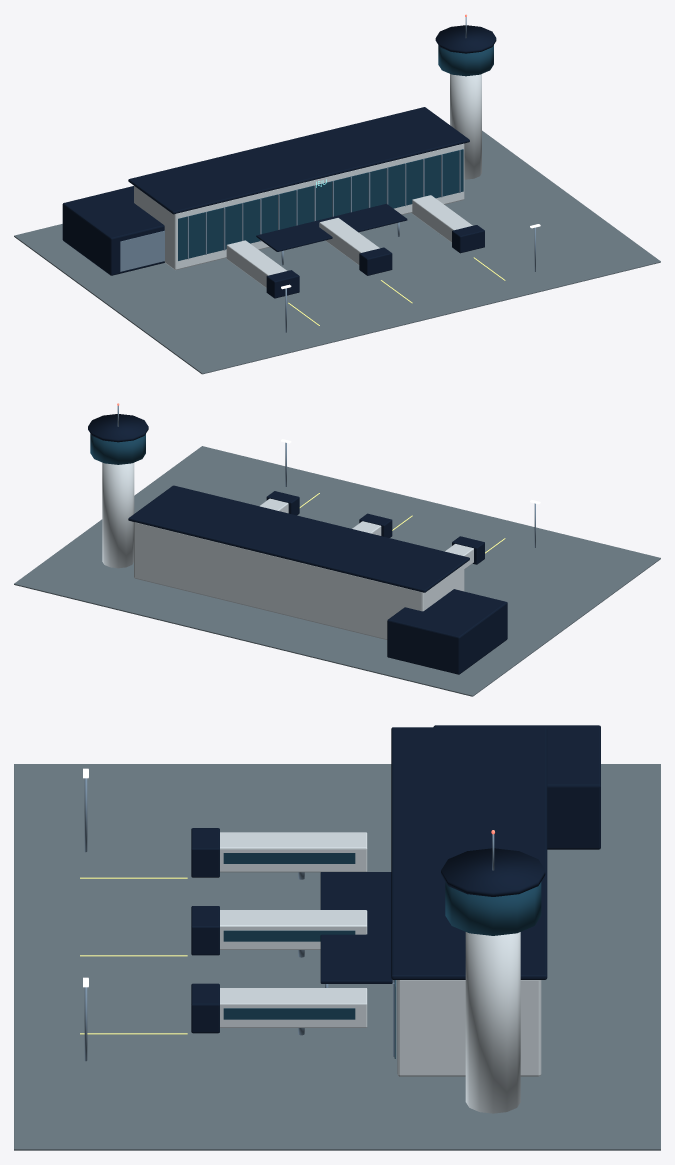
Rendered from airport_jeju.glb.
3 renders of one model, top to bottom at view 1: azimuth 30°, elevation 25°; view 2: azimuth 150°, elevation 25°; view 3: azimuth 270°, elevation 25°, orthographic. The views are drawn at different scales.
Parts seen in each view (by area): view 1: Apron, TerminalRoof, TerminalGlazing, ServiceHangar, TerminalCore, TowerShaft, EntranceCanopy, HangarDoor, JetBridge0, TowerCap, JetBridge2, JetBridge1 (+4 smaller); view 2: Apron, TerminalCore, TerminalRoof, ServiceHangar, TowerShaft, TowerCap, TowerCabin; view 3: Apron, TerminalRoof, TowerShaft, TerminalCore, ServiceHangar, EntranceCanopy, JetBridge2, JetBridge0, JetBridge1, TowerCap, TowerCabin, JetBridgeGlass2 (+5 smaller).
Boxes of the visible parts, <box> form: Apron: <box>14,130,660,374</box>; TerminalRoof: <box>128,107,469,214</box>; TerminalGlazing: <box>178,149,463,260</box>; ServiceHangar: <box>62,186,164,275</box>; TerminalCore: <box>134,143,464,269</box>; TowerShaft: <box>450,74,481,179</box>; EntranceCanopy: <box>256,203,407,251</box>; HangarDoor: <box>120,230,164,271</box>; JetBridge0: <box>226,240,286,287</box>; TowerCap: <box>435,25,496,53</box>; JetBridge2: <box>412,195,472,242</box>; JetBridge1: <box>319,218,379,264</box>; Apron: <box>14,446,660,696</box>; TerminalCore: <box>134,522,464,639</box>; TerminalRoof: <box>128,485,469,592</box>; ServiceHangar: <box>387,589,507,674</box>; TowerShaft: <box>102,462,134,568</box>; TowerCap: <box>88,414,148,442</box>; TowerCabin: <box>90,434,145,464</box>; Apron: <box>14,764,660,1150</box>; TerminalRoof: <box>391,727,547,979</box>; TowerShaft: <box>465,932,520,1113</box>; TerminalCore: <box>397,980,541,1076</box>; ServiceHangar: <box>433,725,600,849</box>; EntranceCanopy: <box>320,872,392,983</box>; JetBridge2: <box>220,988,367,1027</box>; JetBridge0: <box>220,832,367,872</box>; JetBridge1: <box>220,910,367,949</box>; TowerCap: <box>441,848,545,896</box>; TowerCabin: <box>445,882,541,935</box>; JetBridgeGlass2: <box>223,1008,355,1019</box>.
Size of the model in its own units: 76 by 25.25 by 54.
